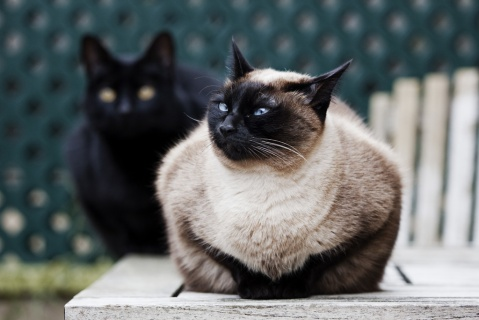Cat: (150, 35, 408, 294), (67, 31, 220, 256)
